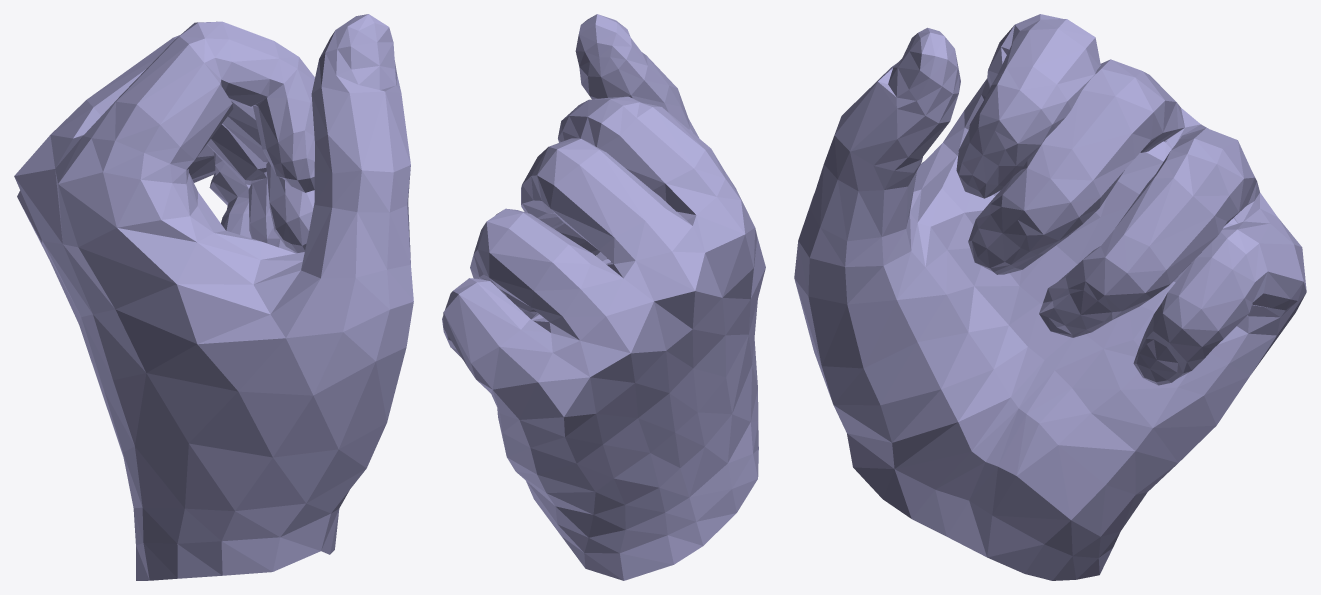
File: frame_0062_source_000062_hand.glb
3 views of the same model, side by side, from view 1: azimuth 30°, elevation 25°; view 2: azimuth 150°, elevation 25°; view 3: azimuth 270°, elevation 25° (orthographic). The views are drawn at different scales.
Parts seen in each view (by area): view 1: world; view 2: world; view 3: world.
Part boxes in pixels (left/top/right/bottom): world: left=14, top=14, right=413, bottom=580; world: left=442, top=14, right=765, bottom=580; world: left=794, top=14, right=1306, bottom=580.
Bounding box in the file's own units: 0.0624 × 0.1231 × 0.0987.
